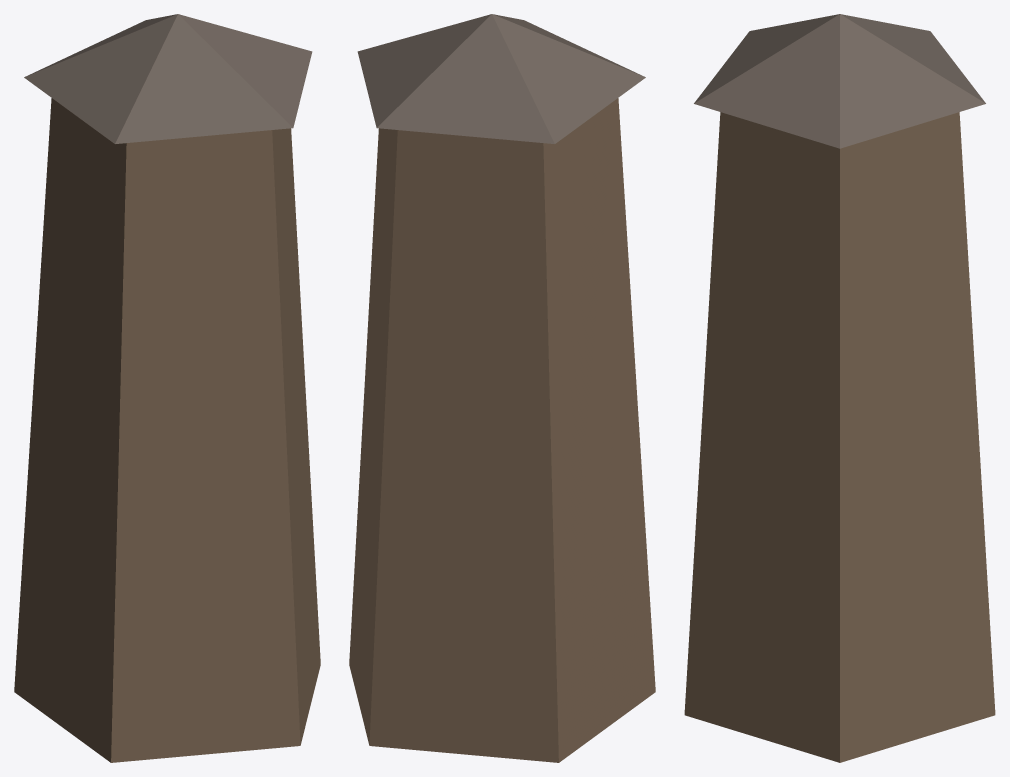
The model's file is bollard.glb.
The picture shows the model from 3 angles, left to right: view 1: azimuth 30°, elevation 25°; view 2: azimuth 150°, elevation 25°; view 3: azimuth 270°, elevation 25°; orthographic projection.
Visible parts, largest first — view 1: bollard; view 2: bollard; view 3: bollard.
Boxes of the visible parts, box(x1,y1,x2,y2) form: bollard: box(14, 14, 320, 762); bollard: box(349, 14, 655, 762); bollard: box(684, 14, 995, 762).
Bounding box in the file's own units: 0.3075 × 0.78 × 0.3234.
